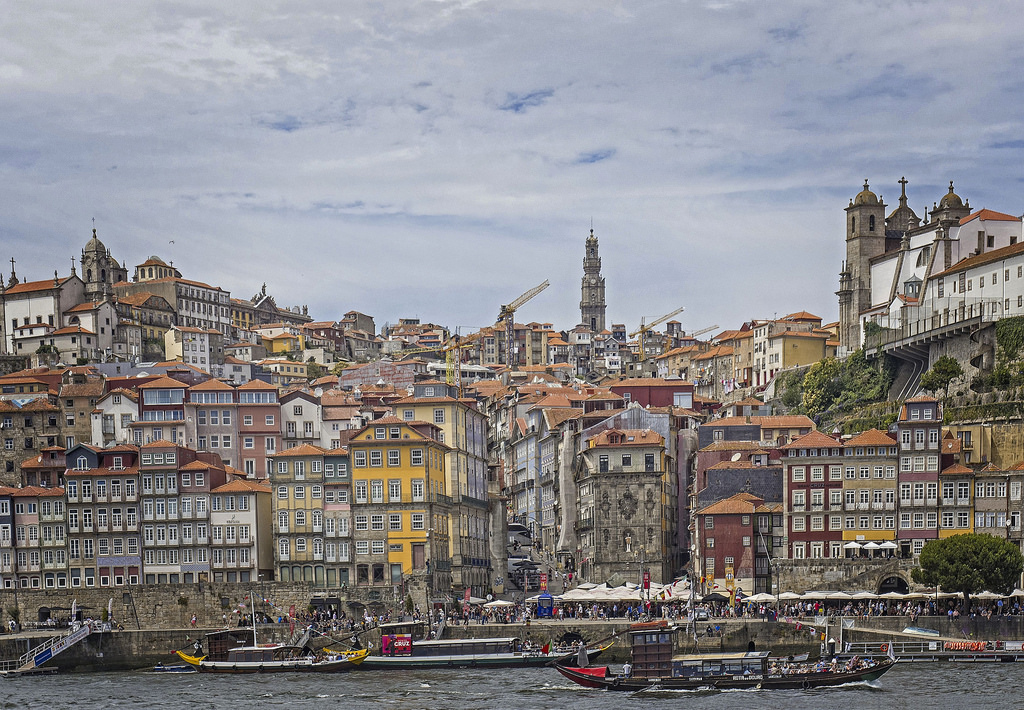clerigos: (580, 216, 606, 332)
